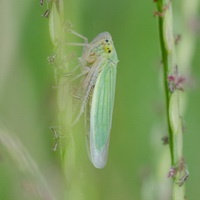insect: (51, 22, 117, 167)
